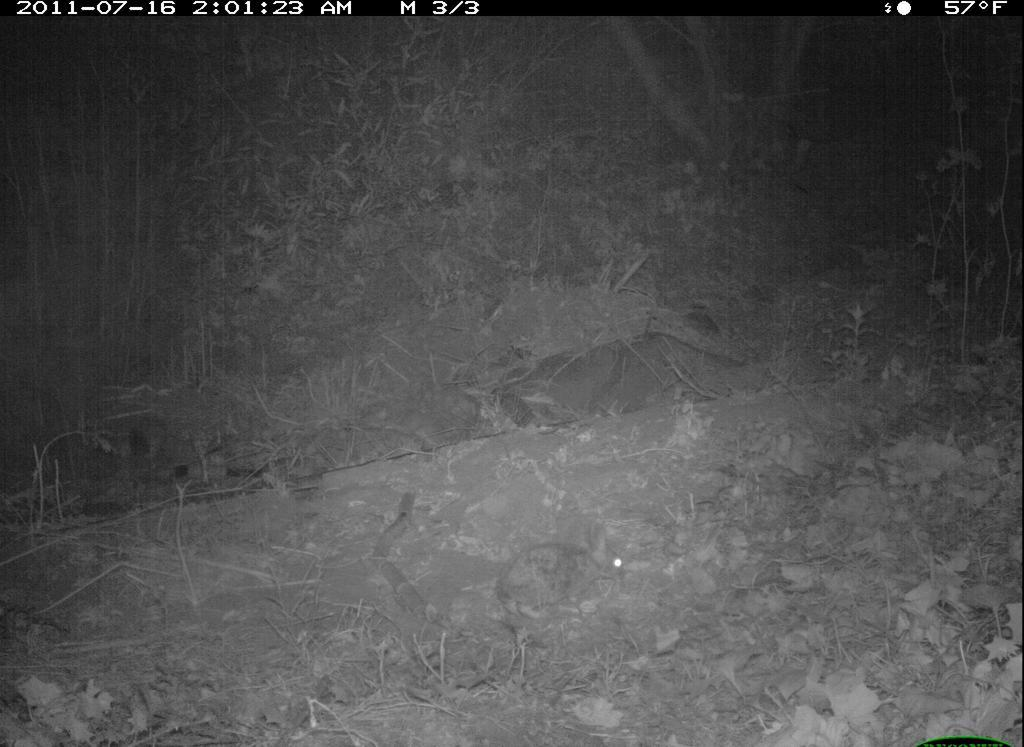rabbit: (492, 513, 646, 648)
